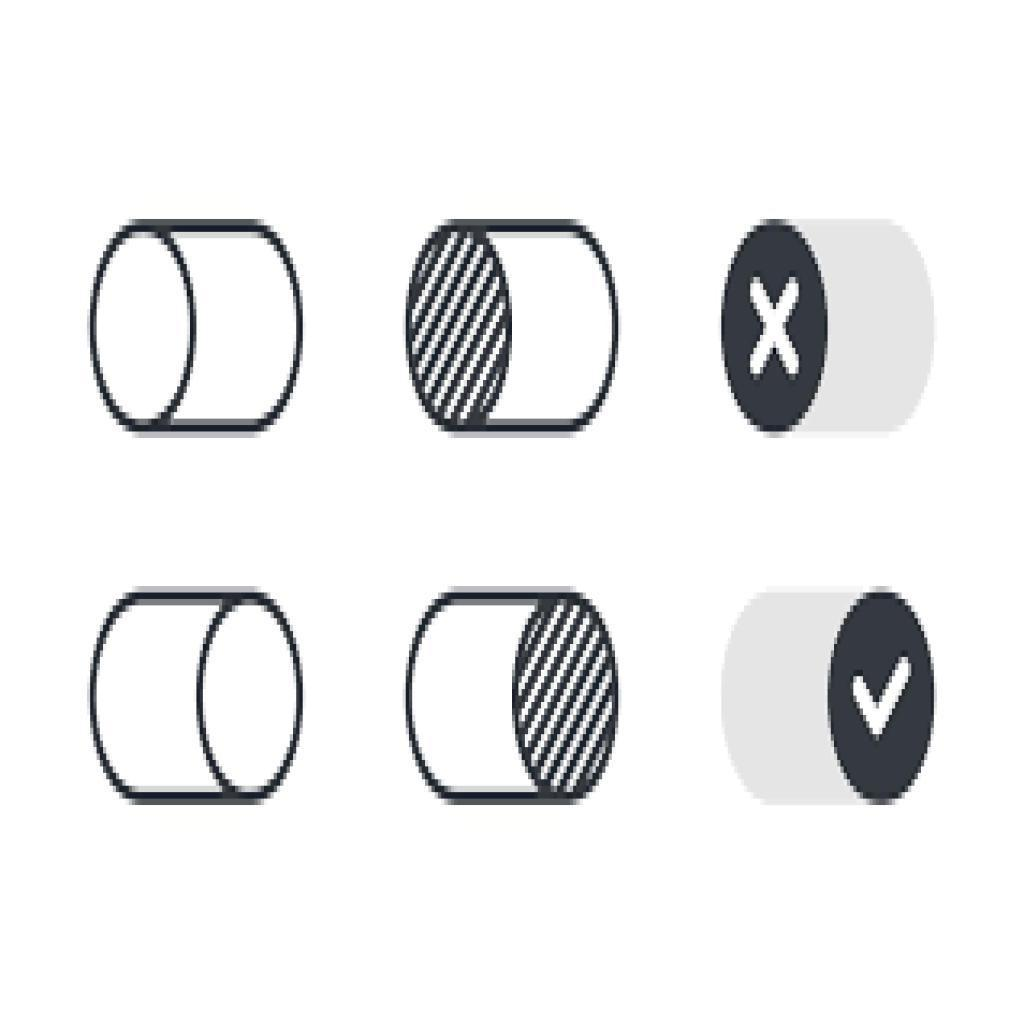switch: (401, 205, 627, 459), (717, 199, 941, 453), (715, 572, 942, 822), (401, 575, 625, 820), (82, 215, 312, 450), (87, 575, 311, 813)
